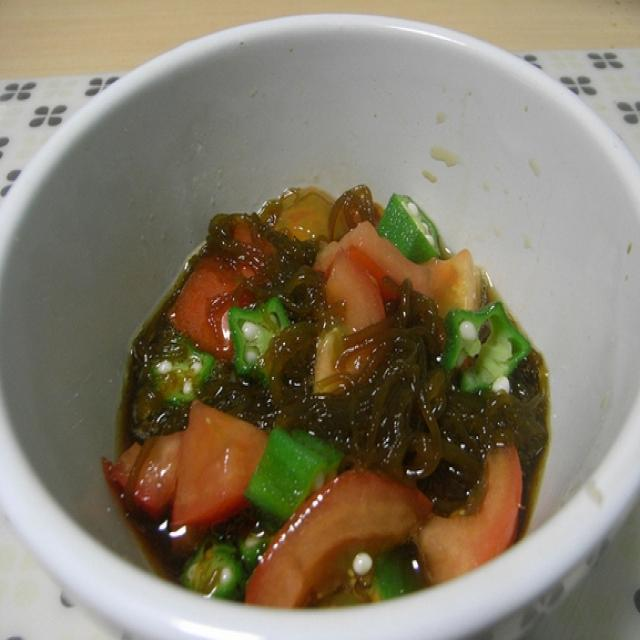蔬菜料理: (25, 53, 618, 618)
